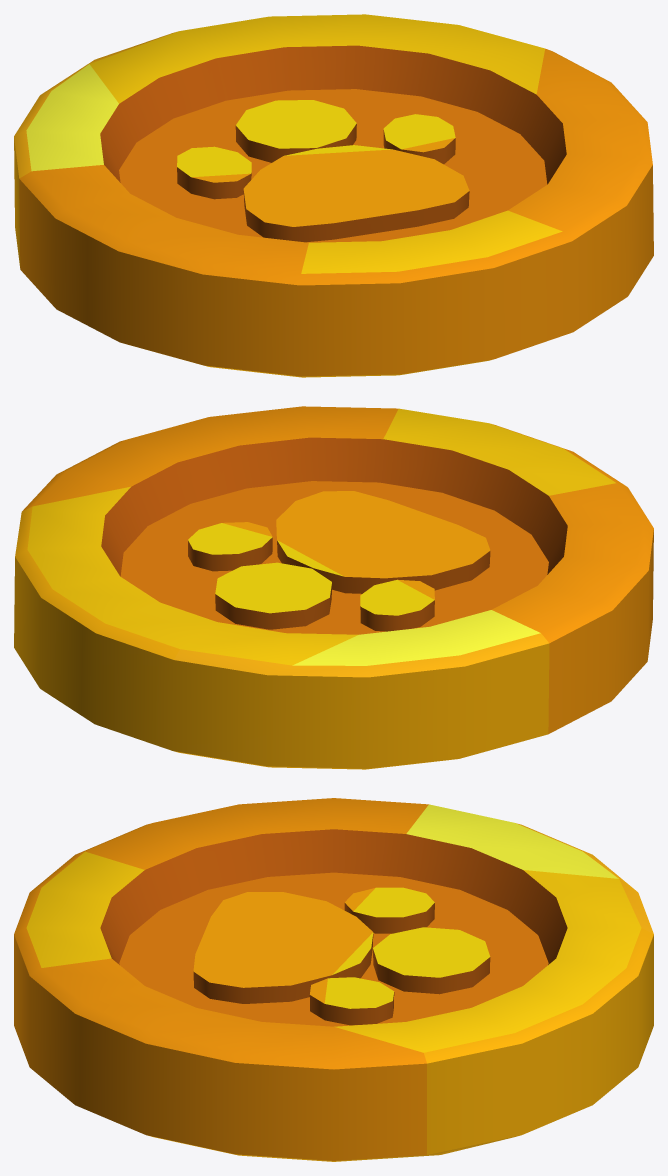
Rendered from coin.FBX.
3 views of the same model, one above another, from view 1: azimuth 30°, elevation 25°; view 2: azimuth 150°, elevation 25°; view 3: azimuth 270°, elevation 25° (orthographic).
Parts seen in each view (by area): view 1: Cylinder001; view 2: Cylinder001; view 3: Cylinder001.
Part boxes in pixels (bbox=[...]): Cylinder001: bbox=[14, 14, 653, 377]; Cylinder001: bbox=[14, 406, 653, 769]; Cylinder001: bbox=[14, 798, 653, 1161].
Size of the model in its own units: 99.61 by 17.74 by 99.42.
Materials: 1 (1 with a texture image).
